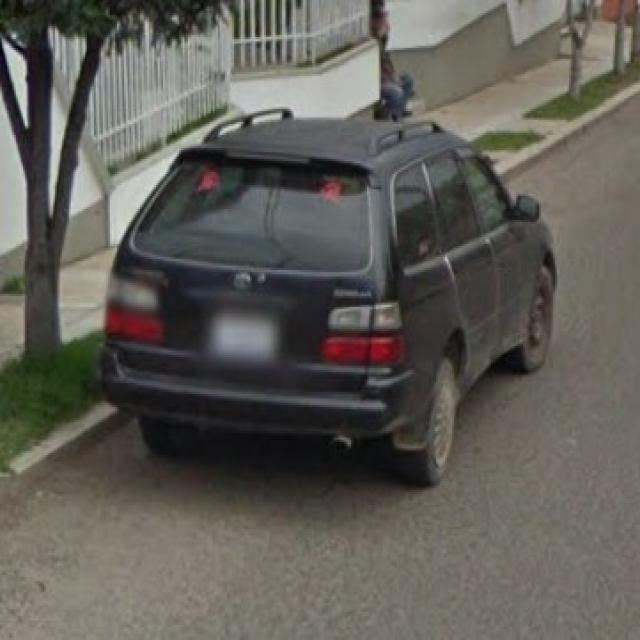cars: (100, 95, 569, 489)
